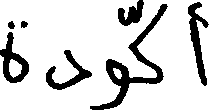ا: (186, 0, 207, 86)
ة: (0, 19, 30, 83)
د: (45, 47, 92, 107)
ك: (126, 0, 166, 92)
و: (103, 4, 127, 108)
